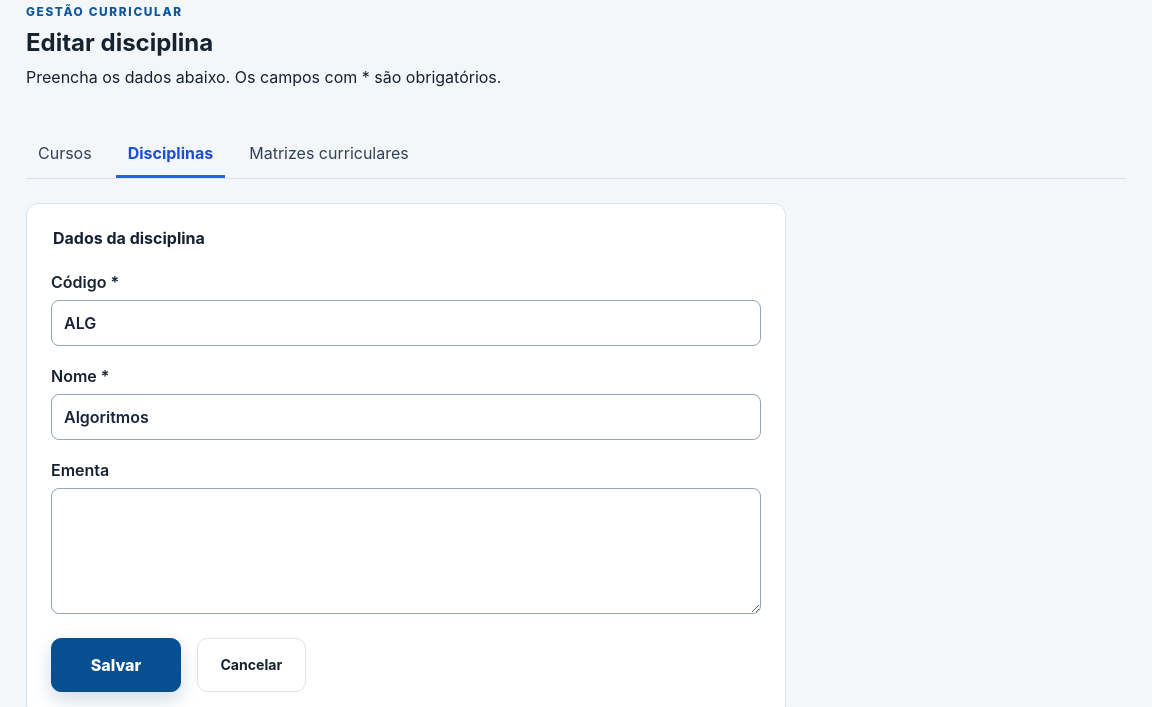
Test: gestão curricular pela API › edita disciplina e mantém formulário após conflito
The width and height of the screenshot is (1152, 707).
Type "Introdução" into the text box labelled "Ementa" at (406, 551), box [51,488,761,614]
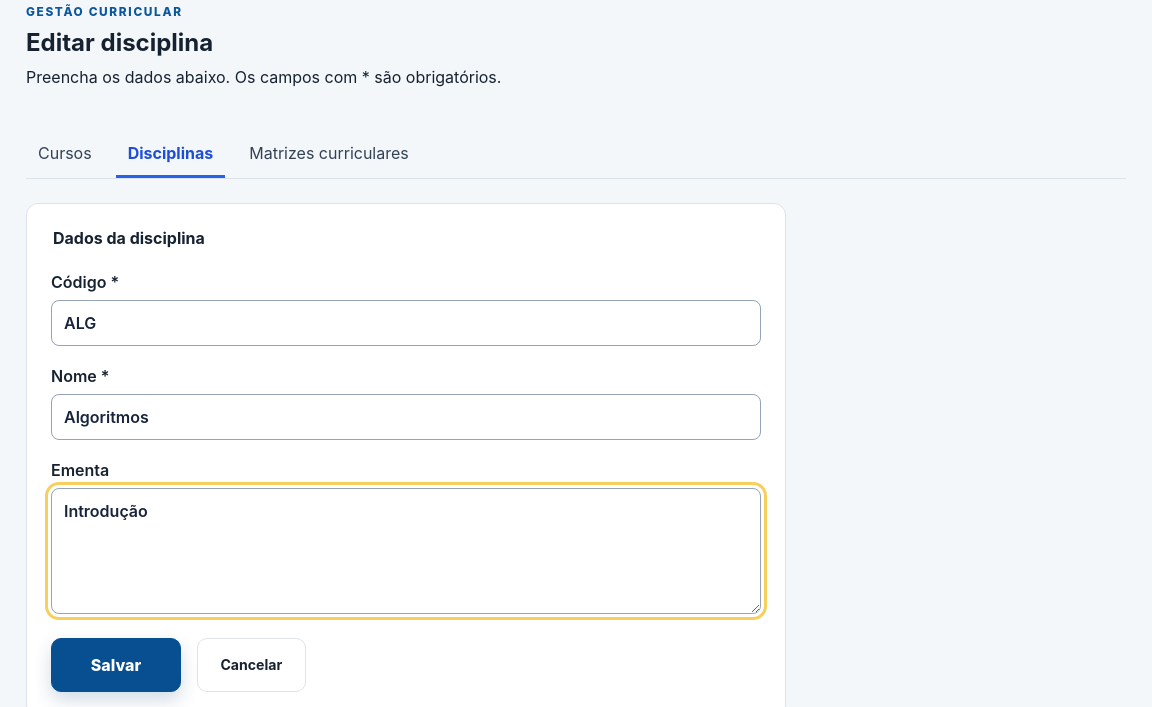
Click the button "Salvar" at (116, 665), box [51,638,181,692]
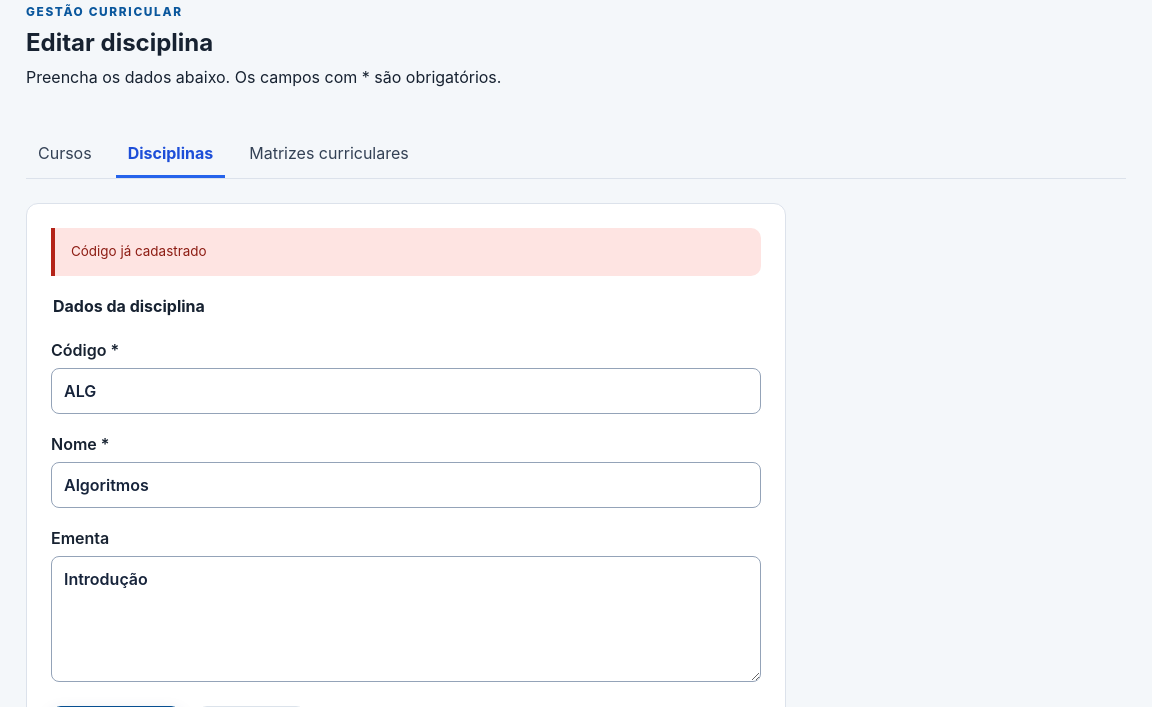
Result: the message reads "Código já cadastrado" at [71,243,206,259]
